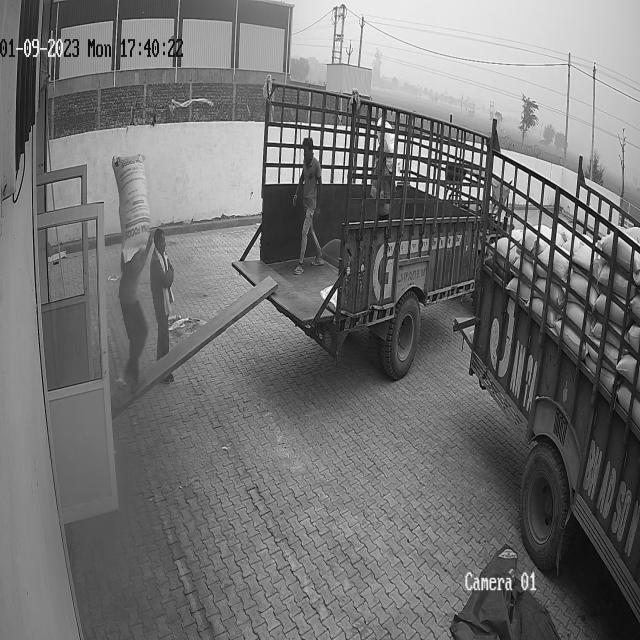sack: (111, 154, 151, 262)
